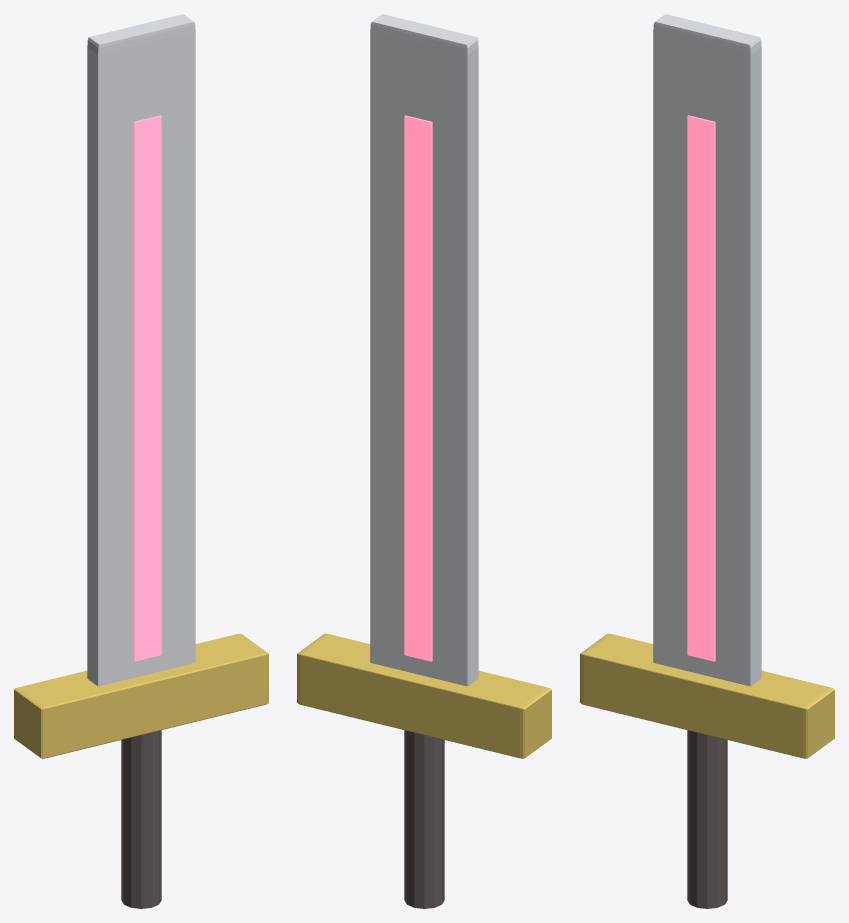
Rendered from weapon_greatsword.glb.
3 renders of one model, left to right at view 1: azimuth 30°, elevation 25°; view 2: azimuth 150°, elevation 25°; view 3: azimuth 330°, elevation 25°, orthographic.
Parts seen in each view (by area): view 1: SwordBlade, CrossGuard, BladeCore, SwordGrip; view 2: SwordBlade, CrossGuard, BladeCore, SwordGrip; view 3: SwordBlade, CrossGuard, BladeCore, SwordGrip.
Part boxes in pixels (box(x1,y1,x2,y2)): SwordBlade: box(87, 14, 195, 686); CrossGuard: box(14, 633, 268, 758); BladeCore: box(133, 115, 161, 661); SwordGrip: box(121, 730, 161, 908); SwordBlade: box(370, 14, 478, 686); CrossGuard: box(297, 633, 551, 758); BladeCore: box(404, 115, 432, 661); SwordGrip: box(404, 730, 444, 908); SwordBlade: box(653, 14, 761, 686); CrossGuard: box(580, 633, 834, 758); BladeCore: box(687, 115, 715, 661); SwordGrip: box(687, 730, 727, 908).
Bounding box in the file's own units: 0.42 × 1.53 × 0.09.
